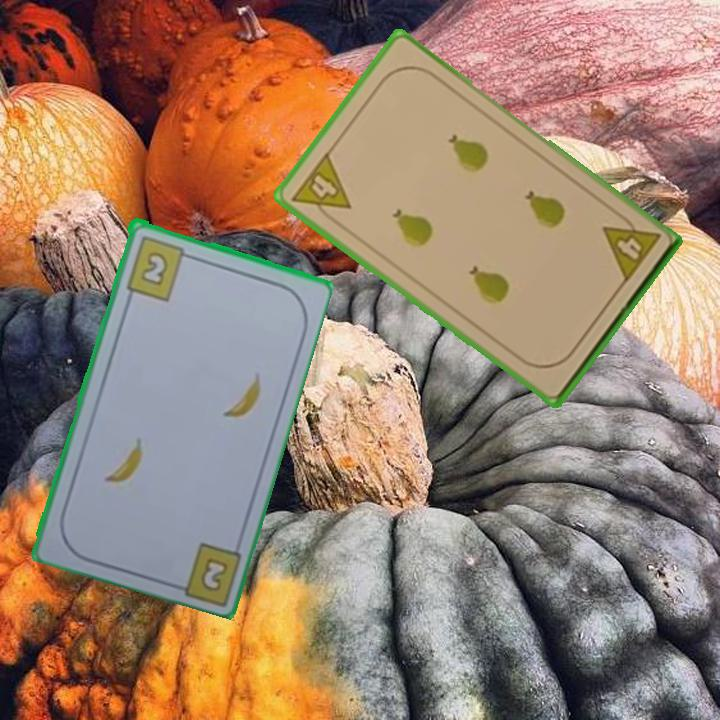2b: (122, 232, 195, 303), (199, 557, 228, 591)
4p: (288, 148, 354, 228), (598, 208, 663, 286)
